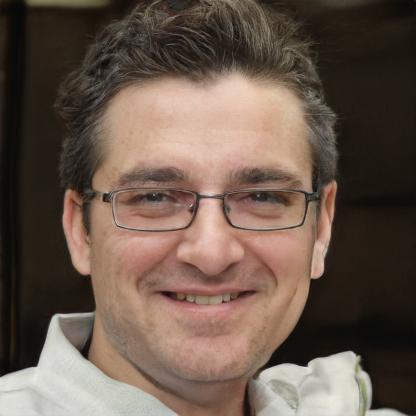glasses: (99, 180, 313, 232)
